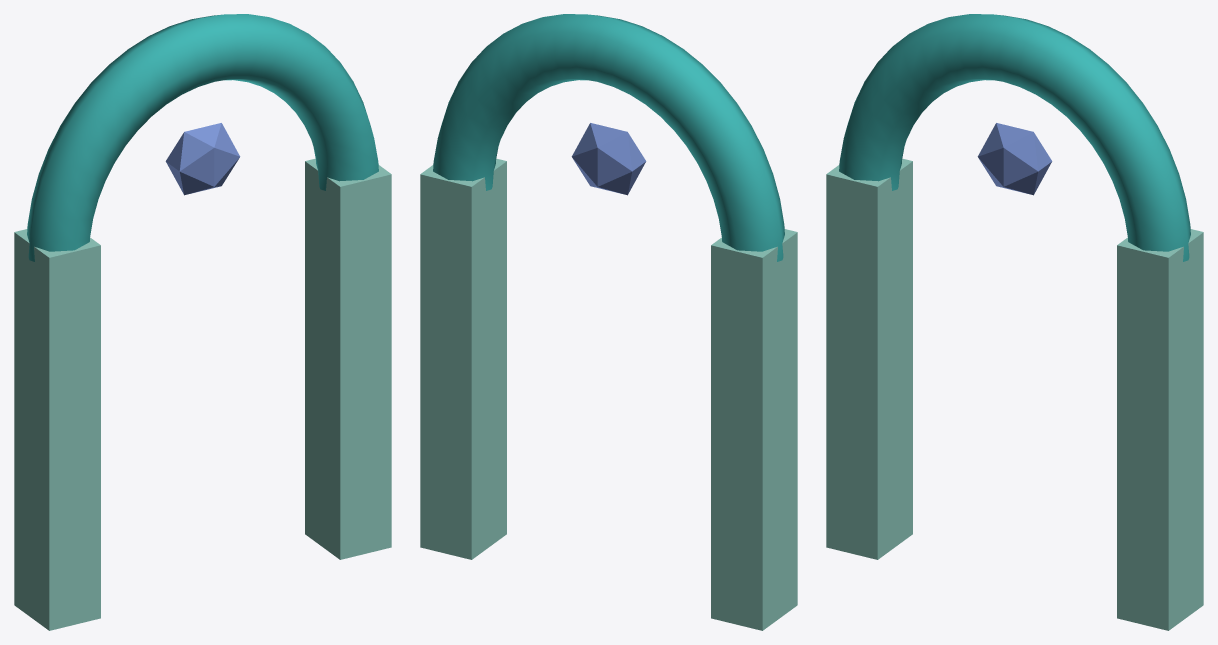
Rendered from gateway.glb.
The picture shows the model from 3 angles, left to right: view 1: azimuth 30°, elevation 25°; view 2: azimuth 150°, elevation 25°; view 3: azimuth 330°, elevation 25°; orthographic projection.
Parts seen in each view (by area): view 1: pillar_-1, pillar_1, arch, keystone; view 2: pillar_-1, pillar_1, arch, keystone; view 3: pillar_1, pillar_-1, arch, keystone.
Boxes of the visible parts, x1,y1,x2,y2 form: pillar_-1: (14, 229, 100, 630); pillar_1: (305, 158, 391, 559); arch: (27, 14, 378, 261); keystone: (165, 123, 240, 195); pillar_-1: (711, 229, 797, 630); pillar_1: (420, 158, 506, 559); arch: (433, 14, 784, 261); keystone: (571, 123, 646, 195); pillar_1: (1117, 229, 1203, 630); pillar_-1: (826, 158, 912, 559); arch: (839, 14, 1190, 261); keystone: (977, 123, 1052, 195).
Size of what is drawn, in the model's own units: 3.7 by 5.69 by 0.65.
